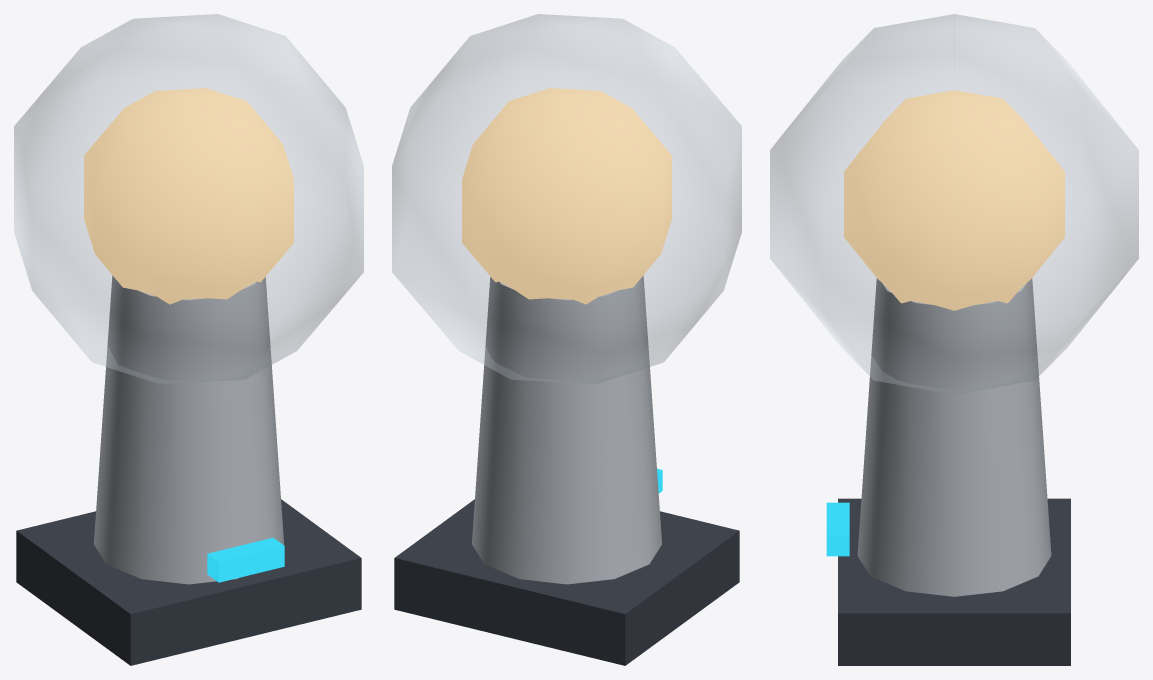
The model's file is lamp_bedside_light.glb.
3 views of the same model, side by side, from view 1: azimuth 30°, elevation 25°; view 2: azimuth 150°, elevation 25°; view 3: azimuth 270°, elevation 25° (orthographic).
Parts seen in each view (by area): view 1: lamp_bedside_light; view 2: lamp_bedside_light; view 3: lamp_bedside_light.
Part boxes in pixels (left/top/right/bottom): lamp_bedside_light: left=14, top=14, right=363, bottom=665; lamp_bedside_light: left=392, top=14, right=741, bottom=665; lamp_bedside_light: left=770, top=14, right=1138, bottom=665.
Bounding box in the file's own units: 0.1902 × 0.33 × 0.1902.
